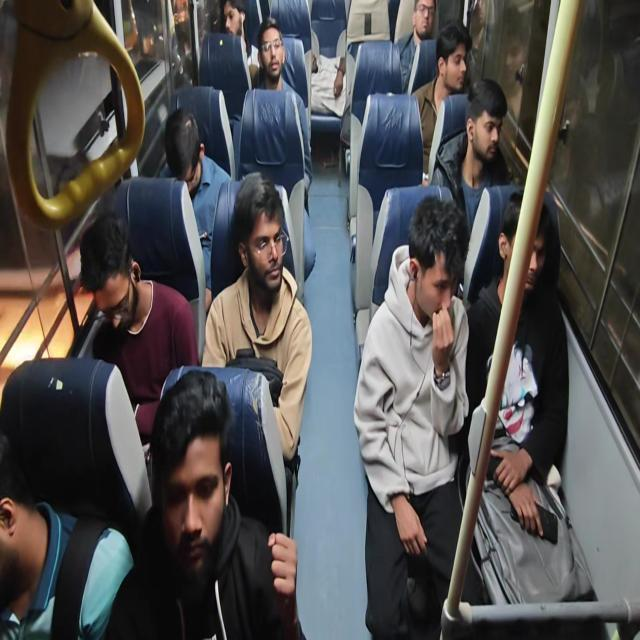person: (146, 372, 234, 578), (231, 175, 302, 312), (60, 212, 136, 326), (406, 192, 471, 323), (496, 186, 554, 302), (1, 430, 33, 621), (162, 100, 210, 204), (461, 67, 507, 174), (438, 21, 473, 103), (258, 14, 290, 94), (411, 0, 439, 55), (222, 0, 247, 53)
